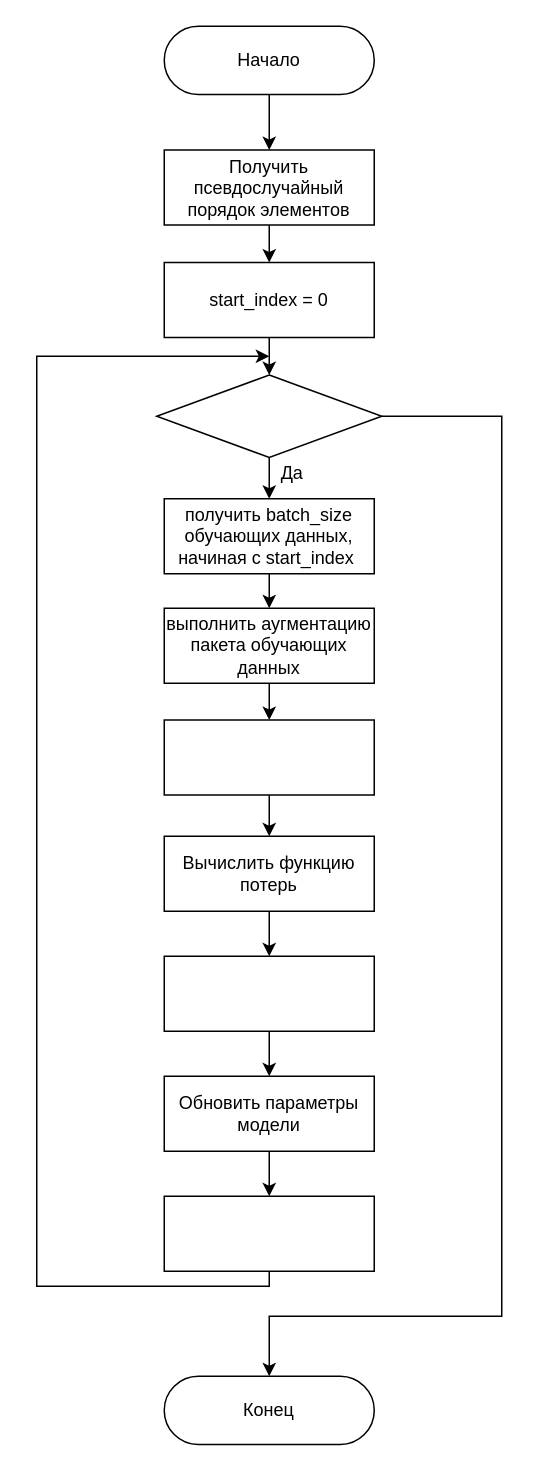
This 540x1472 diagram has some shape labels left out. The centre of each missing label's shape, as x and y in pixels:
"start_index < test_size" belongs at point (268, 416).
"start_index = start_index + batch_size" belongs at point (268, 1233).
"Вычислить градиенты функции потерь для параметров модели" belongs at point (268, 993).
"Передать пакет обучающих данных на вход модели" belongs at point (268, 756).
